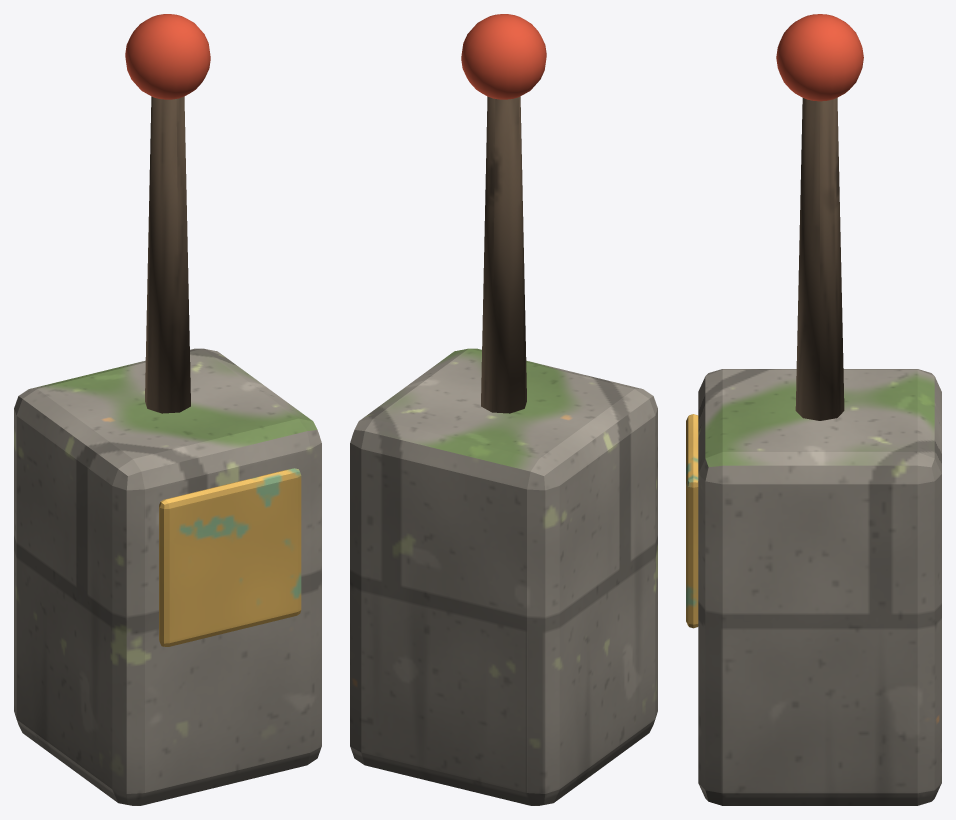
File: lever.glb
The picture shows the model from 3 angles, left to right: view 1: azimuth 30°, elevation 25°; view 2: azimuth 150°, elevation 25°; view 3: azimuth 270°, elevation 25°; orthographic projection.
Parts seen in each view (by area): view 1: Lever, Handle; view 2: Lever, Handle; view 3: Lever, Handle.
Boxes of the visible parts, box(x1,y1,x2,y2) form: Lever: box(14, 348, 321, 805); Handle: box(125, 14, 210, 413); Lever: box(350, 348, 657, 805); Handle: box(461, 14, 546, 413); Lever: box(686, 369, 941, 805); Handle: box(776, 14, 863, 420).
Size of the model in its own units: 0.5 by 1.69 by 0.525.
1 material, 1 textured.
